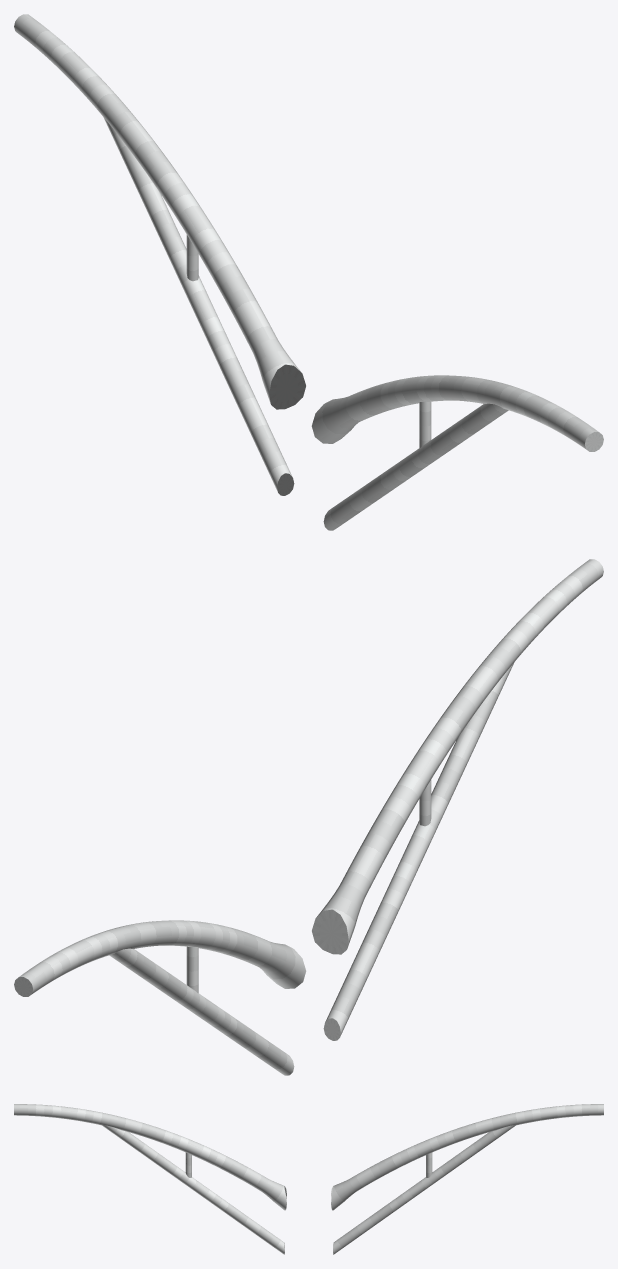
Rendered from luminairearm_truss10ftdouble_inv.obj.
3 renders of one model, top to bottom at view 1: azimuth 30°, elevation 25°; view 2: azimuth 150°, elevation 25°; view 3: azimuth 270°, elevation 25°, orthographic. The views are drawn at different scales.
Parts seen in each view (by area): view 1: luminairearm_truss10ftdouble_inv; view 2: luminairearm_truss10ftdouble_inv; view 3: luminairearm_truss10ftdouble_inv.
Boxes of the visible parts, bbox=[...] form: luminairearm_truss10ftdouble_inv: bbox=[14, 14, 603, 530]; luminairearm_truss10ftdouble_inv: bbox=[14, 559, 603, 1075]; luminairearm_truss10ftdouble_inv: bbox=[14, 1104, 603, 1254].
Size of the model in its own units: 0.0375 by 0.2806 by 1.
